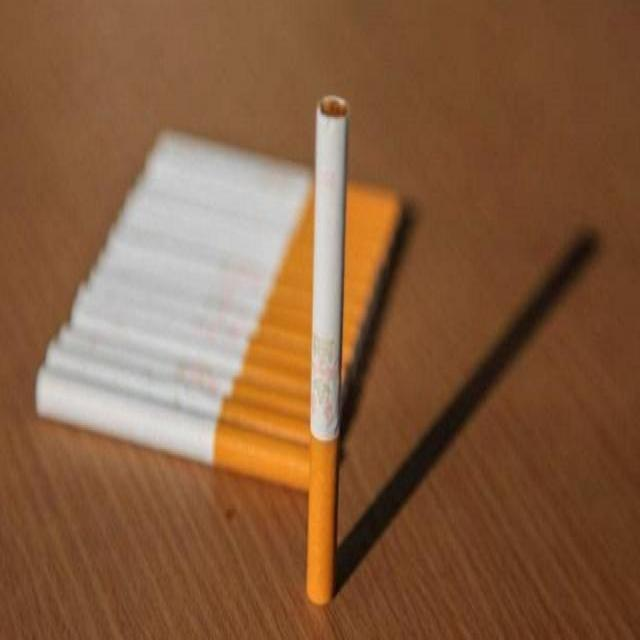cigarette: (311, 62, 348, 614)
